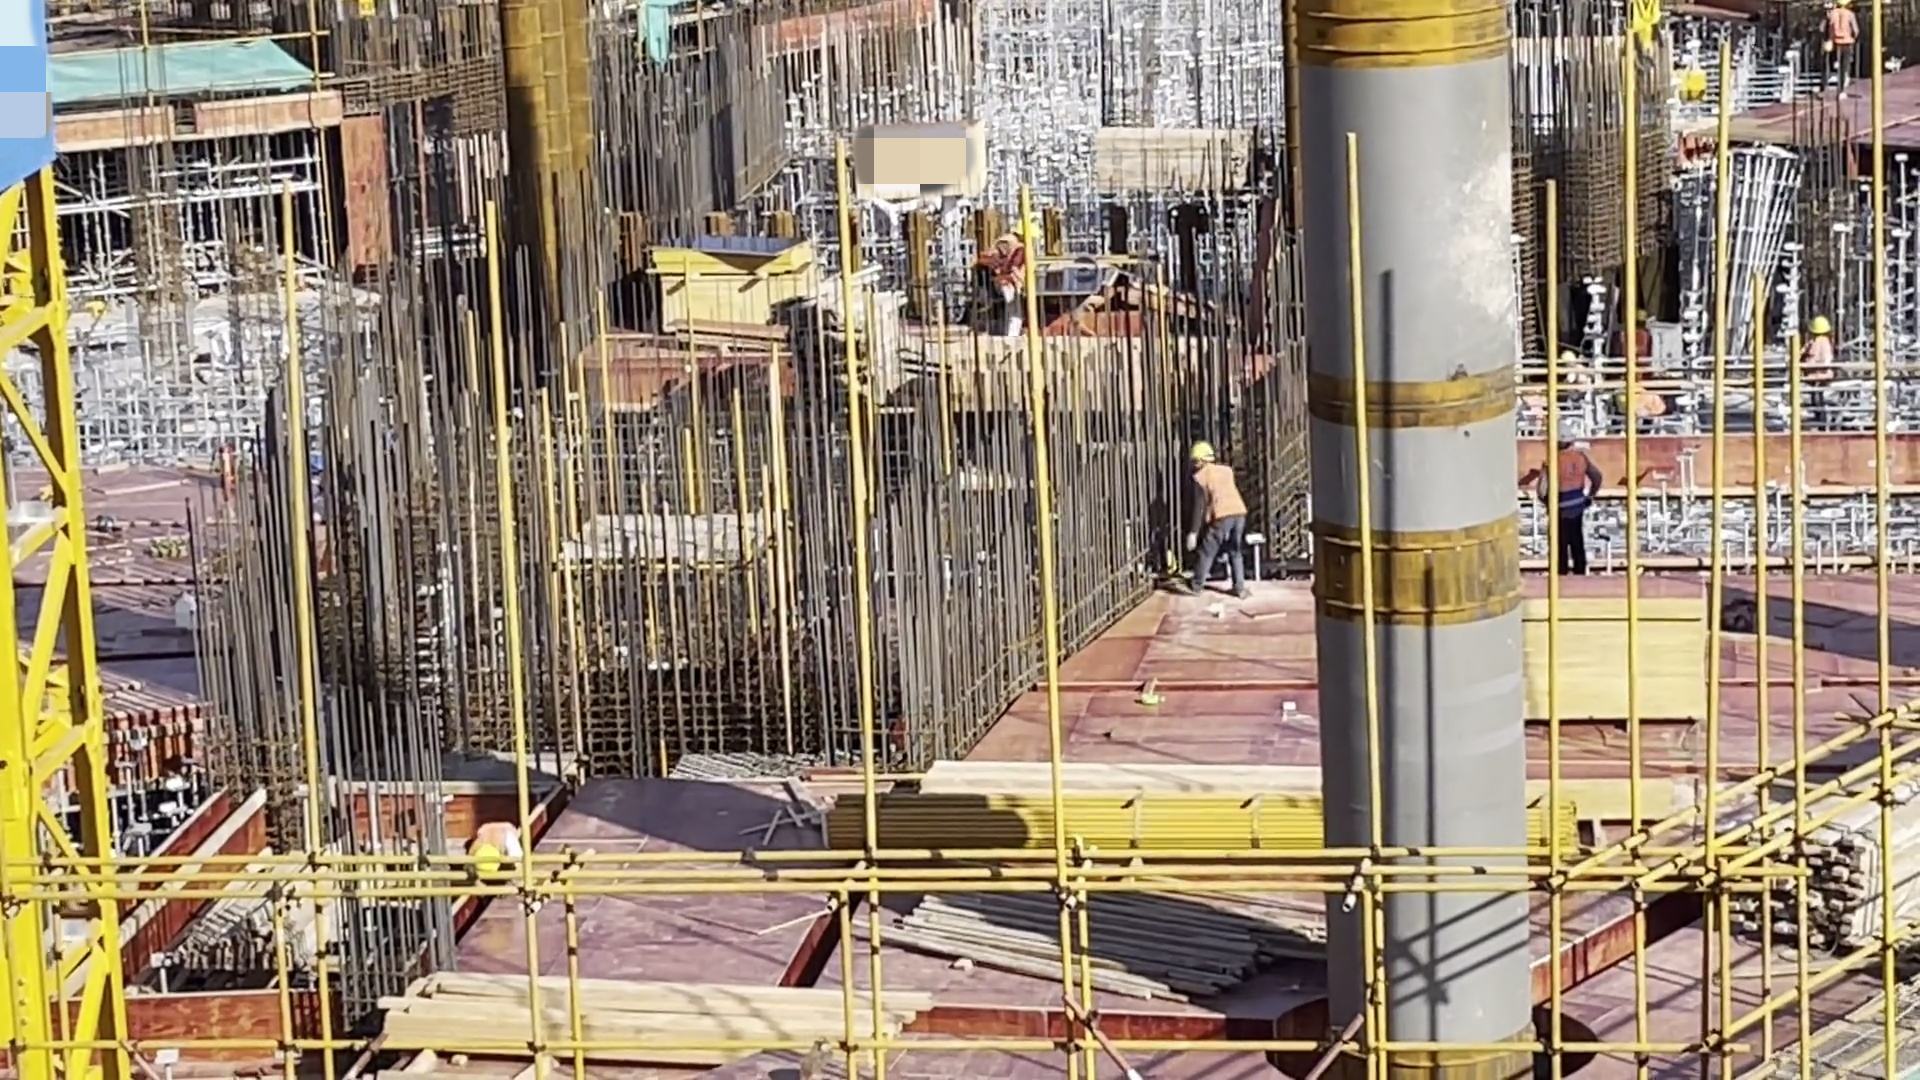helmet: (1184, 434, 1213, 469), (463, 847, 499, 874), (1549, 421, 1577, 450), (1805, 313, 1833, 340), (1630, 307, 1656, 331)
person: (1529, 418, 1604, 583), (1175, 445, 1253, 592), (449, 815, 528, 895), (964, 234, 1021, 337), (1797, 317, 1841, 433), (1825, 1, 1857, 106), (1551, 351, 1599, 405)
vest: (1545, 450, 1591, 510), (1191, 466, 1243, 517), (1827, 9, 1855, 50)
wood: (878, 838, 1292, 1038), (1708, 750, 1920, 953)
